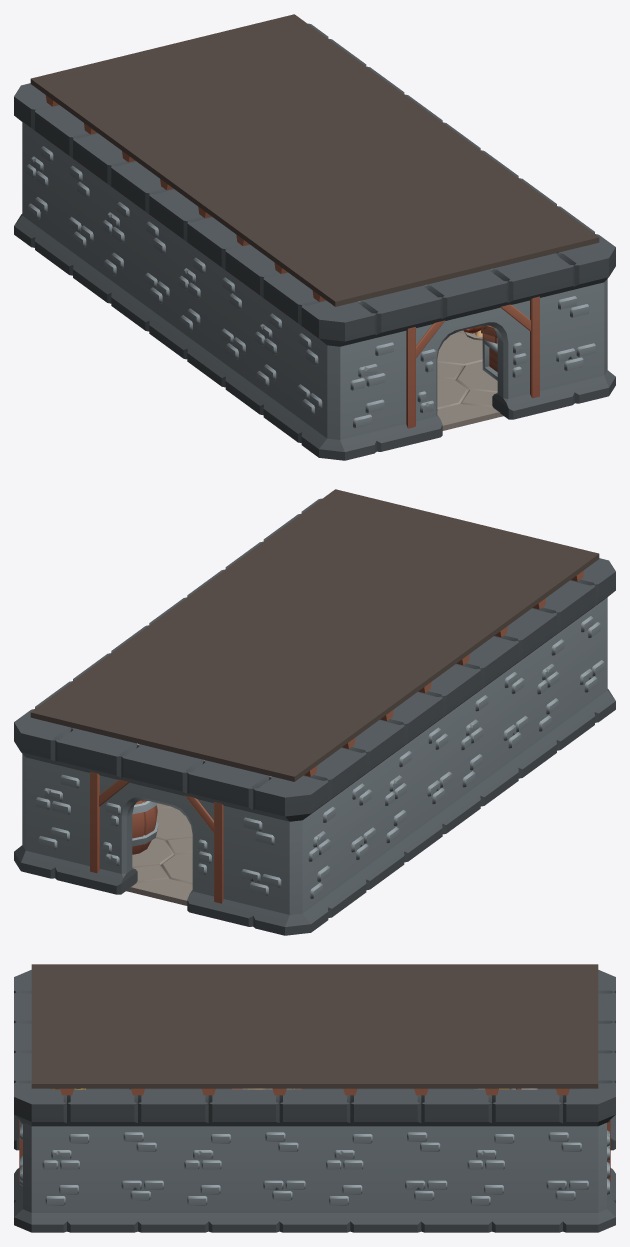
Rendered from coridor2.glb.
3 views of the same model, one above another, from view 1: azimuth 30°, elevation 25°; view 2: azimuth 150°, elevation 25°; view 3: azimuth 270°, elevation 25° (orthographic). The views are drawn at different scales.
Visible parts, largest first — view 1: wall_corner.002, wall_doorway_scaffold.001, wall.001, wall_shelves, wall, ceiling_tile.002, wall_corner.003, ceiling_tile.001, ceiling_tile.007, ceiling_tile.006, ceiling_tile.003, ceiling_tile.005 (+5 smaller); view 2: wall_corner.001, wall_doorway_scaffold, wall, wall.001, wall_shelves, ceiling_tile.006, wall_corner.004, ceiling_tile.004, ceiling_tile.003, ceiling_tile.002, ceiling_tile.007, ceiling_tile (+5 smaller); view 3: wall.003, wall_shelves.001, wall.004, wall_corner.004, wall_corner.003, ceiling_tile.001, ceiling_tile.004, ceiling_tile, ceiling_tile.005, ceiling_tile.002, ceiling_tile.006, ceiling_tile.003 (+5 smaller).
Boxes of the visible parts, x1=… form: wall_corner.002: x1=280, y1=285, x2=410, y2=460; wall_doorway_scaffold.001: x1=393, y1=261, x2=542, y2=444; wall.001: x1=128, y1=174, x2=229, y2=373; wall_shelves: x1=204, y1=230, x2=305, y2=429; wall: x1=52, y1=118, x2=152, y2=317; ceiling_tile.002: x1=259, y1=214, x2=467, y2=306; wall_corner.003: x1=525, y1=219, x2=615, y2=412; ceiling_tile.001: x1=391, y1=181, x2=599, y2=274; ceiling_tile.007: x1=106, y1=102, x2=314, y2=194; ceiling_tile.006: x1=30, y1=46, x2=238, y2=139; ceiling_tile.003: x1=183, y1=158, x2=390, y2=250; ceiling_tile.005: x1=239, y1=70, x2=446, y2=157; wall_corner.001: x1=219, y1=760, x2=349, y2=935; wall_doorway_scaffold: x1=87, y1=736, x2=236, y2=919; wall: x1=324, y1=705, x2=425, y2=904; wall.001: x1=400, y1=649, x2=501, y2=848; wall_shelves: x1=477, y1=593, x2=577, y2=792; ceiling_tile.006: x1=162, y1=689, x2=370, y2=781; wall_corner.004: x1=14, y1=694, x2=104, y2=887; ceiling_tile.004: x1=30, y1=656, x2=238, y2=749; ceiling_tile.003: x1=315, y1=577, x2=523, y2=669; ceiling_tile.002: x1=391, y1=521, x2=599, y2=614; ceiling_tile.007: x1=239, y1=633, x2=446, y2=725; ceiling_tile: x1=183, y1=545, x2=390, y2=632; wall.003: x1=102, y1=1089, x2=244, y2=1232; wall_shelves.001: x1=385, y1=1089, x2=527, y2=1232; wall.004: x1=244, y1=1089, x2=385, y2=1232; wall_corner.004: x1=527, y1=1067, x2=615, y2=1232; wall_corner.003: x1=14, y1=1067, x2=102, y2=1232; ceiling_tile.001: x1=31, y1=1024, x2=173, y2=1095; ceiling_tile.004: x1=456, y1=1024, x2=598, y2=1095; ceiling_tile: x1=173, y1=1024, x2=314, y2=1095; ceiling_tile.005: x1=315, y1=1024, x2=456, y2=1095; ceiling_tile.002: x1=31, y1=964, x2=173, y2=1023; ceiling_tile.006: x1=456, y1=964, x2=598, y2=1023; ceiling_tile.003: x1=173, y1=964, x2=314, y2=1023.
Size of the model in its own units: 9 by 4.5 by 17.
Materials: 15 (15 with a texture image).
